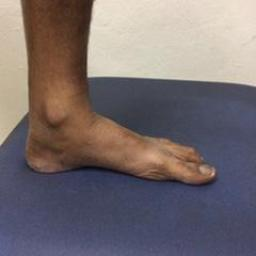Medial View -Left Foot-: (18, 78, 233, 201)
